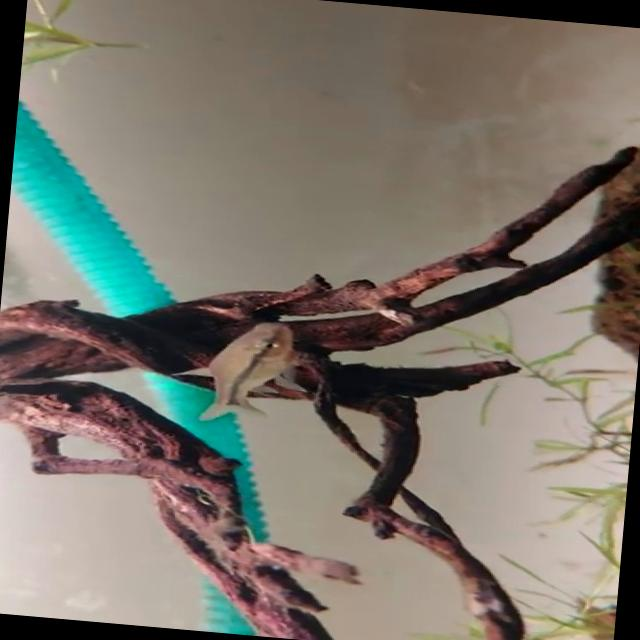Cakil Baligi: (164, 310, 314, 428)
